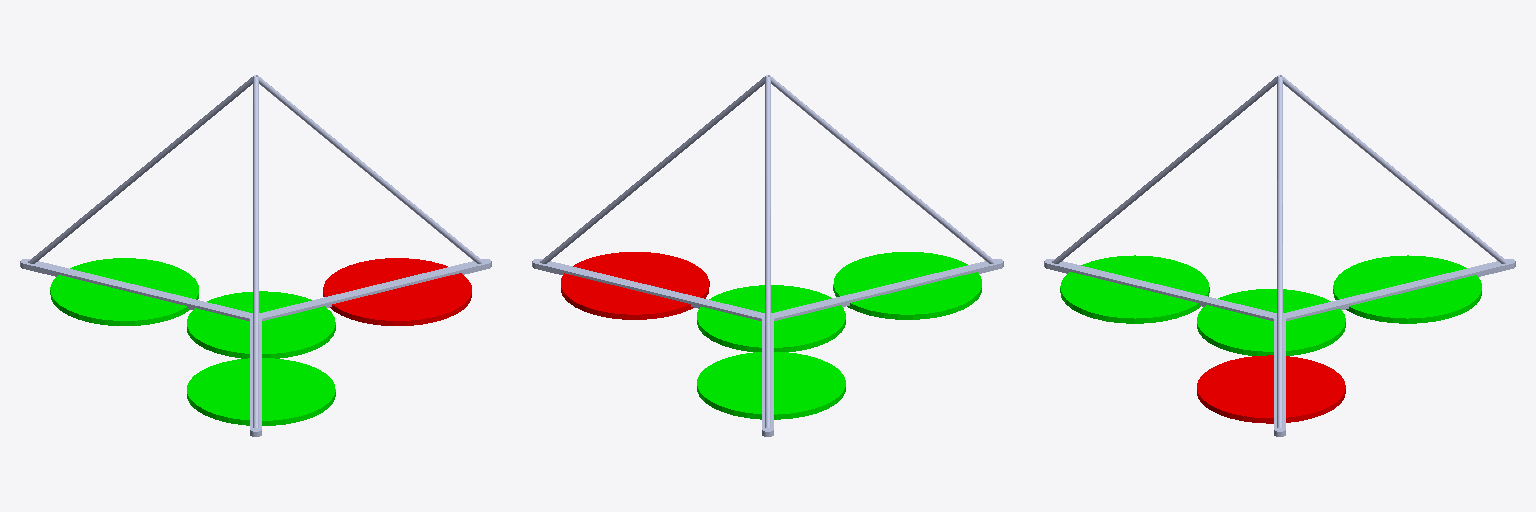
The robot description file, URDF, robot "Tetracopter":
<?xml version="1.0" encoding="utf-8"?>
<!-- This URDF was automatically created by SolidWorks to URDF Exporter! Originally created by [author] ([email redacted]) 
     Commit Version: 1.6.0-1-g15f4949  Build Version: 1.6.7594.29634
     For more information, please see http://wiki.ros.org/sw_urdf_exporter drag_coeff_xy="9.1785e-7" drag_coeff_z="10.311e-7" -->
<robot
  name="Tetracopter">
  <properties arm="0.134" kf="6.79e-7" km="1.26e-8" thrust2weight="2.43" max_speed_kmh="30" gnd_eff_coeff="0." prop_radius="6.35e-2" drag_coeff_xy="0." drag_coeff_z="0." dw_coeff_1="0" dw_coeff_2="0" dw_coeff_3="1" />
  <link
    name="base_link">
    <inertial>
      <origin
        xyz="0.0 0.0 0.0"
        rpy="0 0 0" />
      <mass
        value="0.89" />
      <inertia
        ixx="0.01150313"
        ixy="0"
        ixz="0"
        iyy="0.01150313"
        iyz="0"
        izz="0.01529841" />
    </inertial>
    <visual>
      <origin
        xyz="-0.12 -0.195 0"
        rpy="3.14159 3.14159 3.14159" />
      <geometry>
        <mesh filename="tetra2.dae" scale=" 0.001 0.001 0.001"/>
        <!-- <cylinder radius=".168875" length="0.23"/> -->
      </geometry>
      <material
        name="e">
        <color
          rgba="0.79216 0.81961 0.93333 1" />
      </material>
    </visual>
    <collision>
      <origin
        xyz="0.225167 0.195 0"
        rpy="1.5707 0 -1.5707" />
      <geometry>
        <!-- <cylinder radius=".168875" length="0.23"/> -->
        <mesh filename="tetra_collision.STL" scale=" 0.001 0.001 0.001"/>
      </geometry>
      <material
        name="f">
        <color
          rgba="1 1 0 1" />
      </material>
    </collision>
  </link>

  <link name="prop0_link">
    <inertial>
      <origin rpy="0 0 0" xyz="0 0 0"/>
      <mass value="0"/>
      <inertia ixx="0" ixy="0" ixz="0" iyy="0" iyz="0" izz="0"/>
    </inertial>
    <visual>
      <origin
        xyz="0 0 0"
        rpy="0 0 0" />
      <geometry>
        <cylinder radius="0.0635" length="0.005"/>
      </geometry>
      <material
        name="d">
        <color
          rgba="0 1 0 1" />
      </material>
    </visual>
  </link>
  <joint name="prop0_joint" type="fixed">
    <parent link="base_link"/>
    <child link="prop0_link"/>
    <origin xyz="0.0 0.0 0.0" rpy="0.0 0.0 0.0" />
  </joint>
  <link name="prop1_link">
    <inertial>
      <origin rpy="0 0 0" xyz="0 0 0"/>
      <mass value="0"/>
      <inertia ixx="0" ixy="0" ixz="0" iyy="0" iyz="0" izz="0"/>
    </inertial>
    <visual>
      <origin
        xyz="0 0 0"
        rpy="0 0 0" />
      <geometry>
        <cylinder radius="0.0635" length="0.005"/>
      </geometry>
      <material
        name="a">
        <color
          rgba="1 0 0 1" />
      </material>
    </visual>
  </link>
  <joint name="prop1_joint" type="fixed">
    <parent link="base_link"/>
    <child link="prop1_link"/>
    <origin xyz="0.134 0 0.0" rpy="0.0 0.0 0.0" />
  </joint>
  <link name="prop2_link">
    <inertial>
      <origin rpy="0 0 0" xyz="0 0 0"/>
      <mass value="0"/>
      <inertia ixx="0" ixy="0" ixz="0" iyy="0" iyz="0" izz="0"/>
    </inertial>
    <visual>
      <origin
        xyz="0 0 0"
        rpy="0 0 0" />
      <geometry>
        <cylinder radius="0.0635" length="0.005"/>
      </geometry>
      <material
        name="b">
        <color
          rgba="0 1 0 1" />
      </material>
    </visual>
  </link>
  <joint name="prop2_joint" type="fixed">
    <parent link="base_link"/>
    <child link="prop2_link"/>
    <origin xyz="-0.067 0.116047 0" rpy="0.0 0.0 0.0" />
  </joint>

  <link name="prop3_link">
    <inertial>
      <origin rpy="0 0 0" xyz="0 0 0"/>
      <mass value="0"/>
      <inertia ixx="0" ixy="0" ixz="0" iyy="0" iyz="0" izz="0"/>
    </inertial>
    <visual>
      <origin
        xyz="0 0 0"
        rpy="0 0 0" />
      <geometry>
        <cylinder radius="0.0635" length="0.005"/>
      </geometry>
      <material
        name="c">
        <color
          rgba="0 1 0 1" />
      </material>
    </visual>
  </link>
  <joint name="prop3_joint" type="fixed">
    <parent link="base_link"/>
    <child link="prop3_link"/>
    <origin xyz="-0.067 -0.116047 0" rpy="0.0 0.0 0.0" />
  </joint>

  <link name="center_of_mass_link">
    <inertial>
      <origin rpy="0 0 0" xyz="0 0 0.08"/>
      <mass value="0"/>
      <inertia ixx="0" ixy="0" ixz="0" iyy="0" iyz="0" izz="0"/>
    </inertial>
  </link>
  <joint name="center_of_mass_joint" type="fixed">
    <parent link="base_link"/>
    <child link="center_of_mass_link"/>
  </joint>
</robot>

--- Render facts (derived) ---
3 views of the same robot in one strip: view 1: azimuth 30°, elevation 25°; view 2: azimuth 150°, elevation 25°; view 3: azimuth 270°, elevation 25° (orthographic).
Robot: Tetracopter — 6 links, 5 joints (5 fixed); root link base_link; default pose: every joint at zero.
Links seen in each view (by area): view 1: base_link, prop3_link, prop1_link, prop2_link, prop0_link; view 2: base_link, prop2_link, prop1_link, prop3_link, prop0_link; view 3: base_link, prop1_link, prop3_link, prop2_link, prop0_link.
Link boxes in pixels (x1,y1,x2,y2): base_link: (20, 75, 491, 436); prop3_link: (187, 358, 335, 425); prop1_link: (323, 258, 471, 325); prop2_link: (50, 258, 198, 325); prop0_link: (187, 291, 335, 358); base_link: (532, 75, 1003, 436); prop2_link: (697, 352, 845, 419); prop1_link: (561, 252, 709, 319); prop3_link: (833, 252, 981, 319); prop0_link: (697, 285, 845, 351); base_link: (1044, 75, 1515, 436); prop1_link: (1197, 355, 1345, 423); prop3_link: (1060, 255, 1209, 323); prop2_link: (1333, 255, 1481, 323); prop0_link: (1197, 289, 1345, 355).
Size in the robot's own frame: 0.3601 by 0.4007 by 0.2342 metres.
Meshes: 1 distinct files referenced, 1 mesh visuals loaded (1 Collada DAE).
